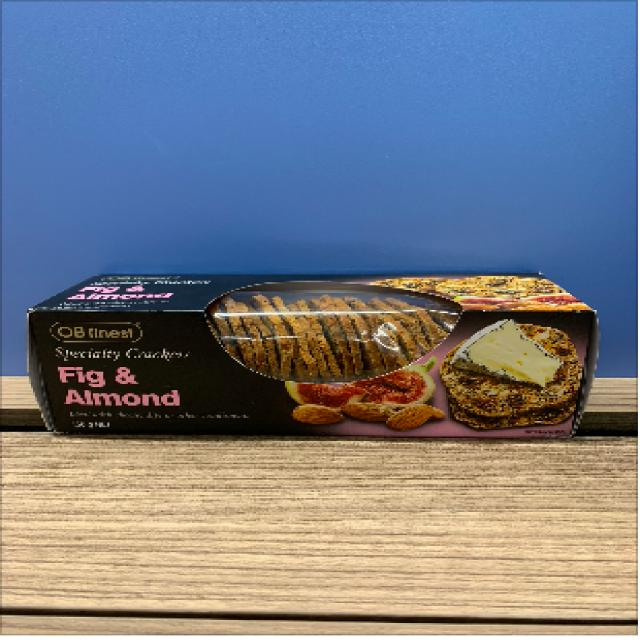object_name: (47, 276, 585, 438)
